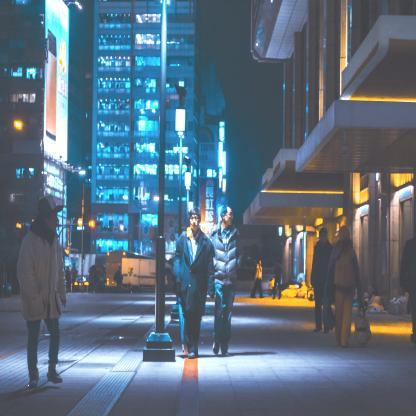light_pole: (14, 121, 47, 299), (62, 169, 86, 291)
